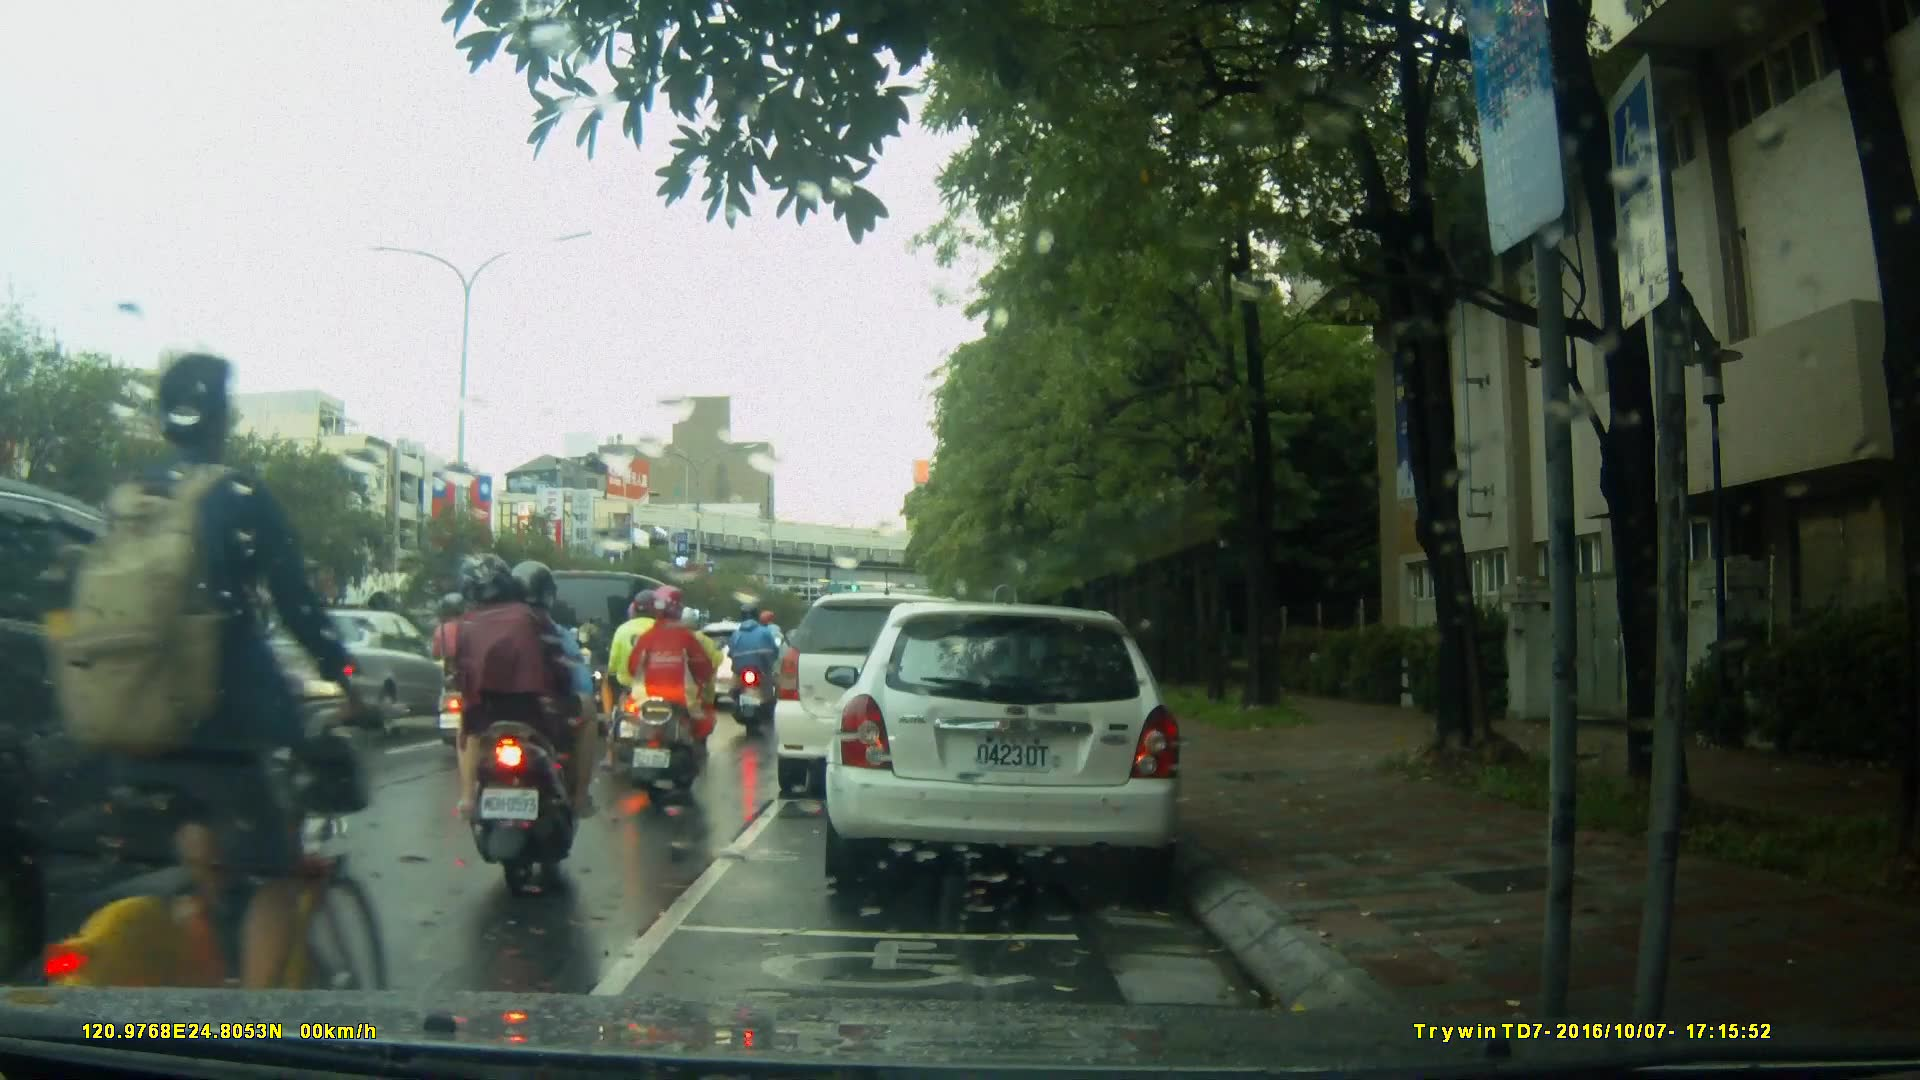rider: (35, 351, 379, 1068), (449, 554, 596, 892), (634, 589, 720, 805), (609, 594, 693, 776), (649, 597, 725, 744), (429, 592, 501, 744), (731, 595, 782, 732)
vehicle: (822, 604, 1188, 883), (774, 595, 995, 802), (225, 610, 461, 741)
